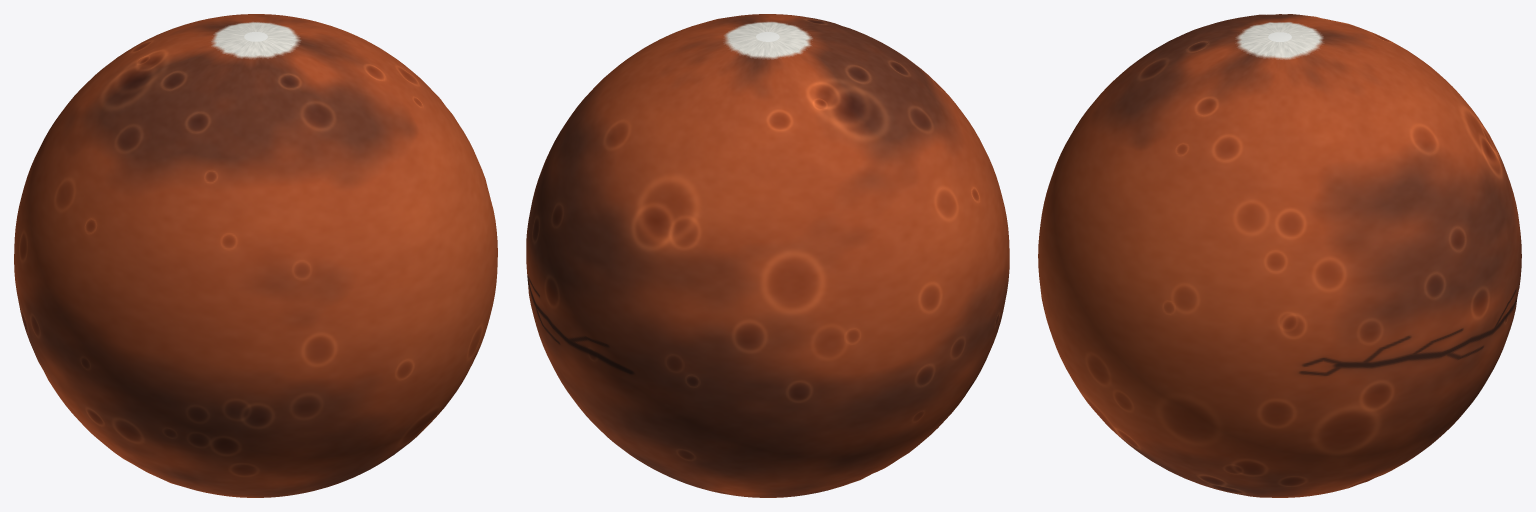
Rendered from mars.glb.
3 views of the same model, side by side, from view 1: azimuth 30°, elevation 25°; view 2: azimuth 150°, elevation 25°; view 3: azimuth 270°, elevation 25° (orthographic).
Visible parts, largest first — view 1: model; view 2: model; view 3: model.
Part boxes in pixels (bbox=[...]): model: bbox=[14, 14, 497, 497]; model: bbox=[526, 14, 1009, 497]; model: bbox=[1038, 14, 1521, 497].
Size of the model in its own units: 2 by 2 by 2.
3 materials, 1 textured.
